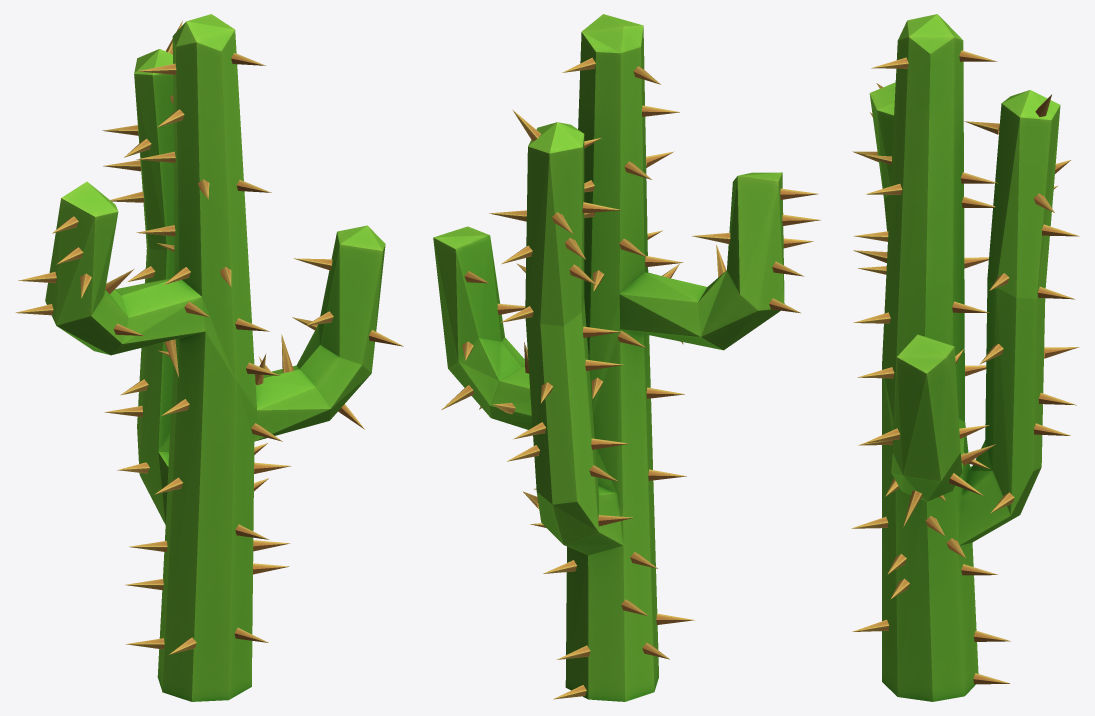
Rendered from Cactus_29.fbx.
3 renders of one model, left to right at view 1: azimuth 30°, elevation 25°; view 2: azimuth 150°, elevation 25°; view 3: azimuth 270°, elevation 25°, orthographic.
Parts seen in each view (by area): view 1: Cactus_29; view 2: Cactus_29; view 3: Cactus_29.
Part boxes in pixels (x1=…): Cactus_29: x1=15, y1=14, x2=403, y2=701; Cactus_29: x1=433, y1=14, x2=820, y2=701; Cactus_29: x1=851, y1=14, x2=1079, y2=701.
Bounding box in the file's own units: 64.94 × 111 × 35.22.
